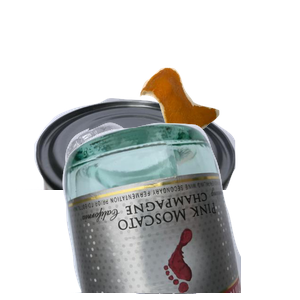glass: (60, 120, 300, 300)
metal: (16, 96, 244, 276)
plastic: (63, 120, 263, 300)
trash: (137, 65, 300, 188)
